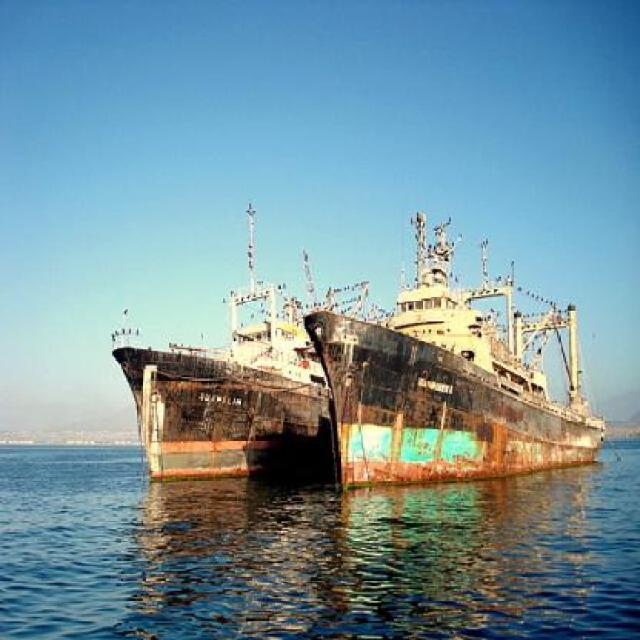corrosion: (108, 223, 604, 474)
